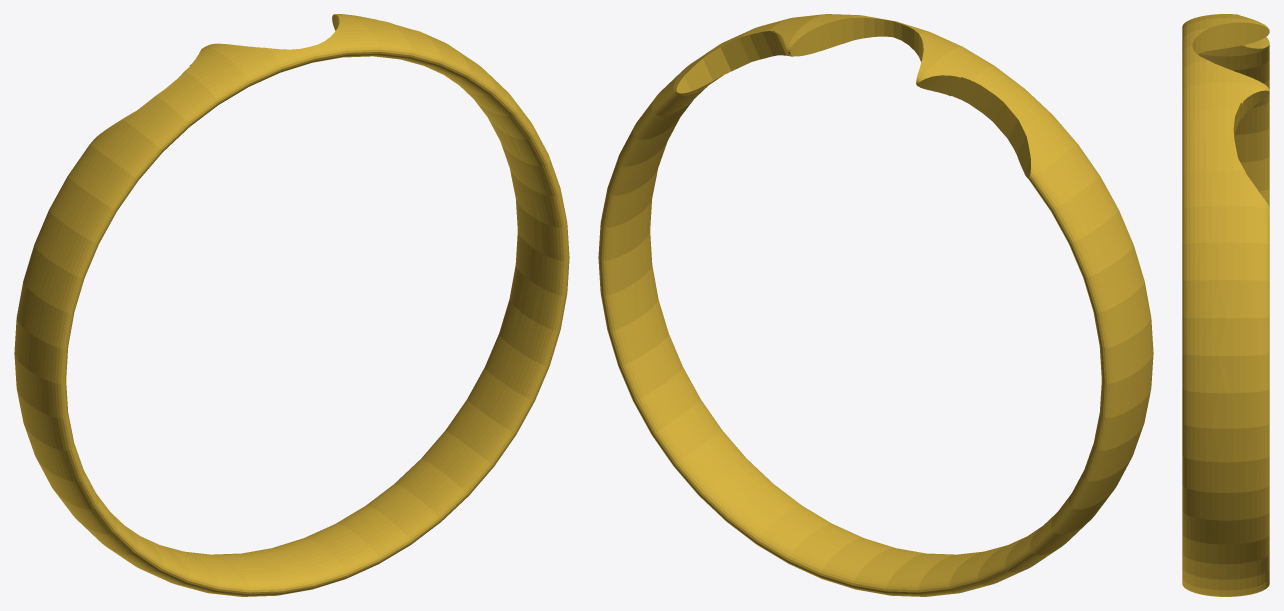
The model's file is band-3.0mm.glb.
3 views of the same model, side by side, from view 1: azimuth 30°, elevation 25°; view 2: azimuth 150°, elevation 25°; view 3: azimuth 270°, elevation 25° (orthographic). The views are drawn at different scales.
Visible parts, largest first — view 1: band-3.0mm; view 2: band-3.0mm; view 3: band-3.0mm.
Boxes of the visible parts, bbox=[...] form: band-3.0mm: bbox=[14, 14, 569, 596]; band-3.0mm: bbox=[598, 14, 1153, 596]; band-3.0mm: bbox=[1182, 14, 1269, 596].
Bounding box in the file's own units: 20 × 19.88 × 3.
